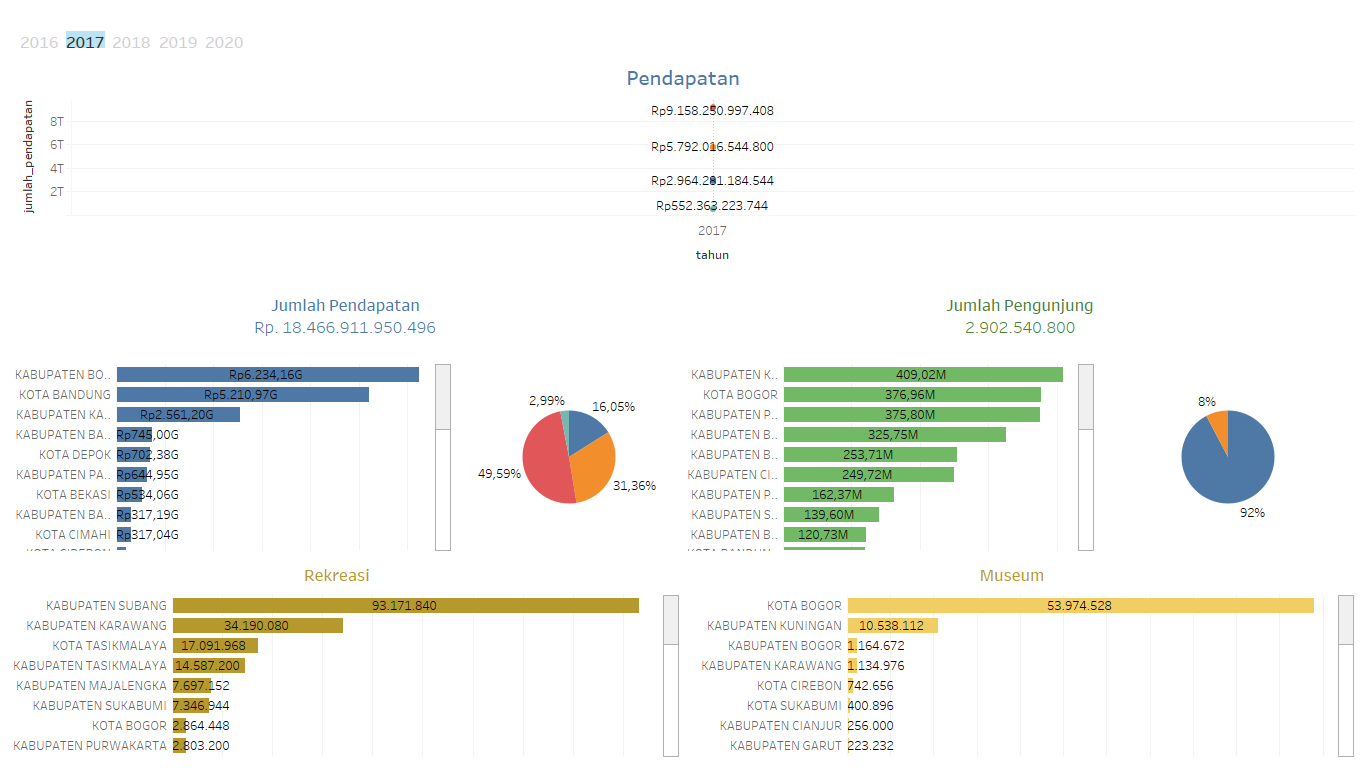

Layout of this report page (visuals, bound fields, positions):
{"tool":"tableau","page":{"name":"Dashboard Intr","canvas":[1366,868],"ordinal":0},"visuals":[{"type":"worksheet","title":"Tahun","mark":"Automatic","box":[8,8,1350,50.7]},{"type":"worksheet","title":"Pdpt By Thn","mark":"Bar","rows":["jumlah_pendapatan"],"cols":["tahun"],"box":[8,58.7,1195,257.3]},{"type":"legend","title":"Pdpt By Thn","param":"[federated.0preywq1v7p78v17wvx920seirl9].[none:sektor_wisata:nk]","box":[1203,58.7,155,257.3]},{"type":"worksheet","title":"Total Pdpt","mark":"Automatic","box":[8,316,675,73.8]},{"type":"worksheet","title":"Total Pgjg","mark":"Automatic","box":[683,316,520,73.8]},{"type":"legend","title":"Jns Pgjg","param":"[federated.0preywq1v7p78v17wvx920seirl9].[none:kategori_wisatawan:nk]","box":[1203,316,155,73.8]},{"type":"worksheet","title":"Pendapatan Kota","mark":"Automatic","rows":["nama_kabupaten_kota"],"cols":["jumlah_pendapatan"],"box":[8,389.8,447,236.8]},{"type":"worksheet","title":"Pendapatan Sektor Wisata","mark":"Pie","box":[455,389.8,228,236.8]},{"type":"worksheet","title":"Jml Pgjg Kota","mark":"Automatic","rows":["nama_kabupaten_kota (jml_pengunjung_ke_objek_wisata__jenis_w"],"cols":["jumlah_pengunjung"],"box":[683,389.8,415,236.8]},{"type":"worksheet","title":"Jns Pgjg","mark":"Pie","box":[1098,389.8,260,236.8]},{"type":"worksheet","title":"Rekreasi","mark":"Automatic","rows":["nama_kabupaten_kota (jml_pengunjung_tempat_rekreasi__jenis_w"],"cols":["jumlah_pengunjung (jml_pengunjung_tempat_rekreasi__jenis_wis"],"box":[8,626.6,675,233.4]},{"type":"worksheet","title":"Museum","mark":"Automatic","cols":["jumlah_pengunjung (jumlah_pengunjung_museum_berdasarkan_kabu"],"box":[683,626.6,675,233.4]}]}

Visuals, with their boxes on the page's 1366x868 design canvas (x1, y1, x2, y2). These are canvas units, not pixel positions in the 1366x768 screenshot, which may show the page scaled, cropped or inside an application window:
"Tahun" worksheet: (8, 8, 1358, 59)
"Pdpt By Thn" worksheet (Bar marks): (8, 59, 1203, 316)
"Pdpt By Thn" legend: (1203, 59, 1358, 316)
"Total Pdpt" worksheet: (8, 316, 683, 390)
"Total Pgjg" worksheet: (683, 316, 1203, 390)
"Jns Pgjg" legend: (1203, 316, 1358, 390)
"Pendapatan Kota" worksheet: (8, 390, 455, 627)
"Pendapatan Sektor Wisata" worksheet (Pie marks): (455, 390, 683, 627)
"Jml Pgjg Kota" worksheet: (683, 390, 1098, 627)
"Jns Pgjg" worksheet (Pie marks): (1098, 390, 1358, 627)
"Rekreasi" worksheet: (8, 627, 683, 860)
"Museum" worksheet: (683, 627, 1358, 860)
